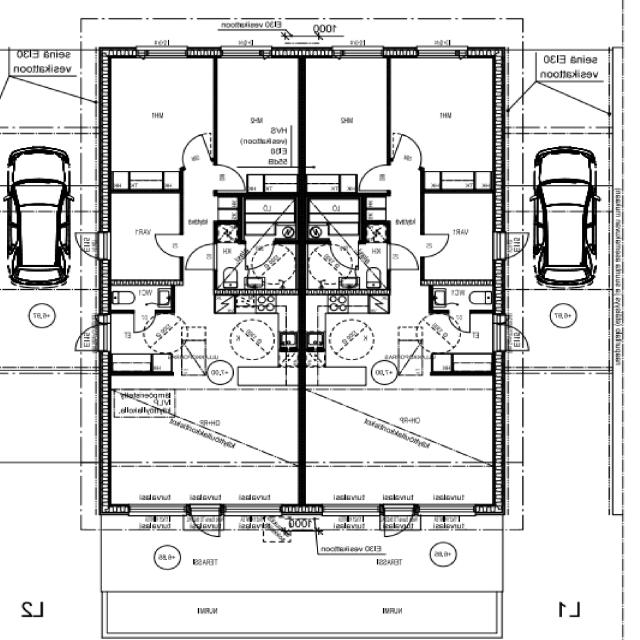door: (175, 134, 212, 170), (392, 135, 428, 170), (494, 232, 536, 260), (71, 324, 111, 351), (70, 232, 111, 258), (385, 504, 414, 540), (494, 324, 534, 350), (191, 504, 219, 540), (387, 243, 420, 269), (246, 238, 273, 268), (331, 238, 358, 268), (186, 244, 218, 269), (360, 165, 391, 190), (213, 165, 244, 190), (156, 235, 184, 256), (421, 235, 448, 256), (449, 310, 470, 333), (134, 310, 155, 332), (89, 314, 111, 324), (493, 315, 515, 324)
